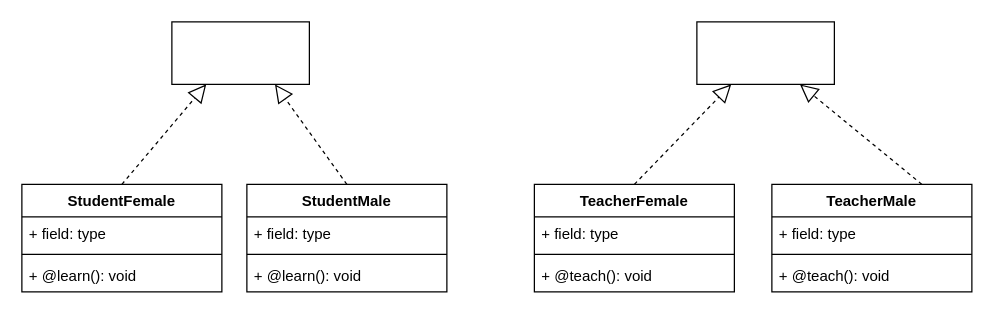
Image size: 994x318. Some labels were removed from this diagram. The box of each missing label's shape, as (x1, y1, x2, y2) in pixels:
«interface» Student: (171, 21, 309, 84)
«interface» Teacher: (696, 21, 834, 84)
